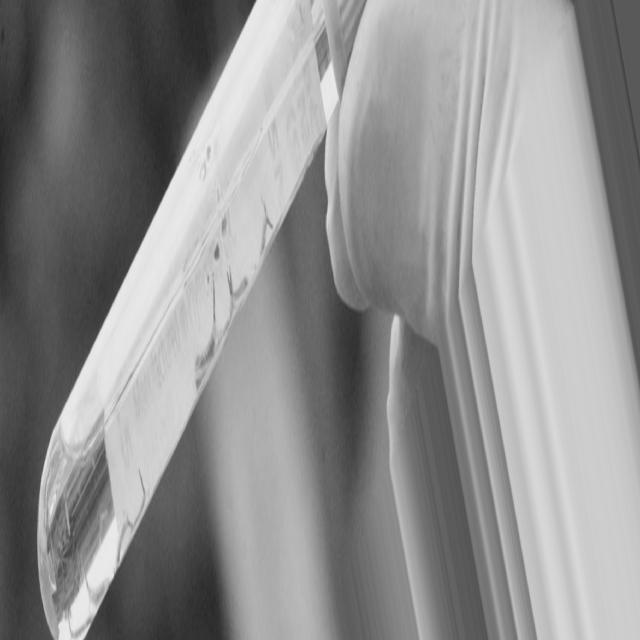larvas: (116, 472, 145, 565), (197, 283, 214, 376), (80, 560, 106, 602), (65, 602, 88, 640), (260, 202, 272, 250), (226, 278, 248, 295)
